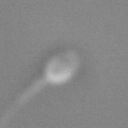normal: (1, 78, 46, 124)
